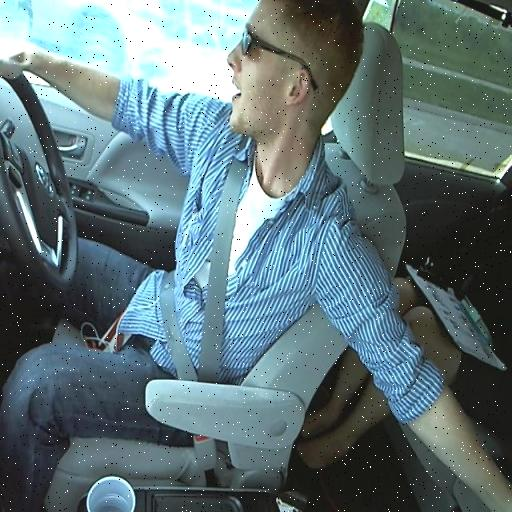turning: (0, 4, 376, 396)
